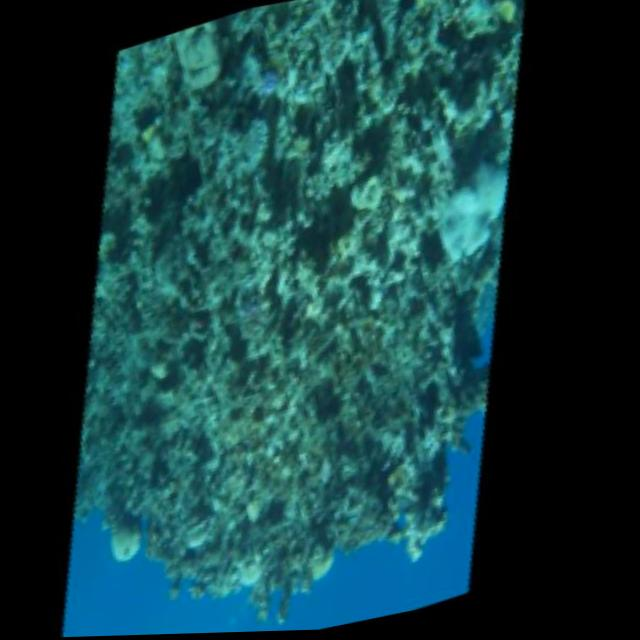Dead Coral: (0, 206, 554, 640), (60, 0, 579, 385), (344, 319, 558, 582), (329, 96, 558, 337), (175, 139, 382, 376), (144, 0, 388, 192), (156, 480, 396, 636), (318, 0, 555, 122)
